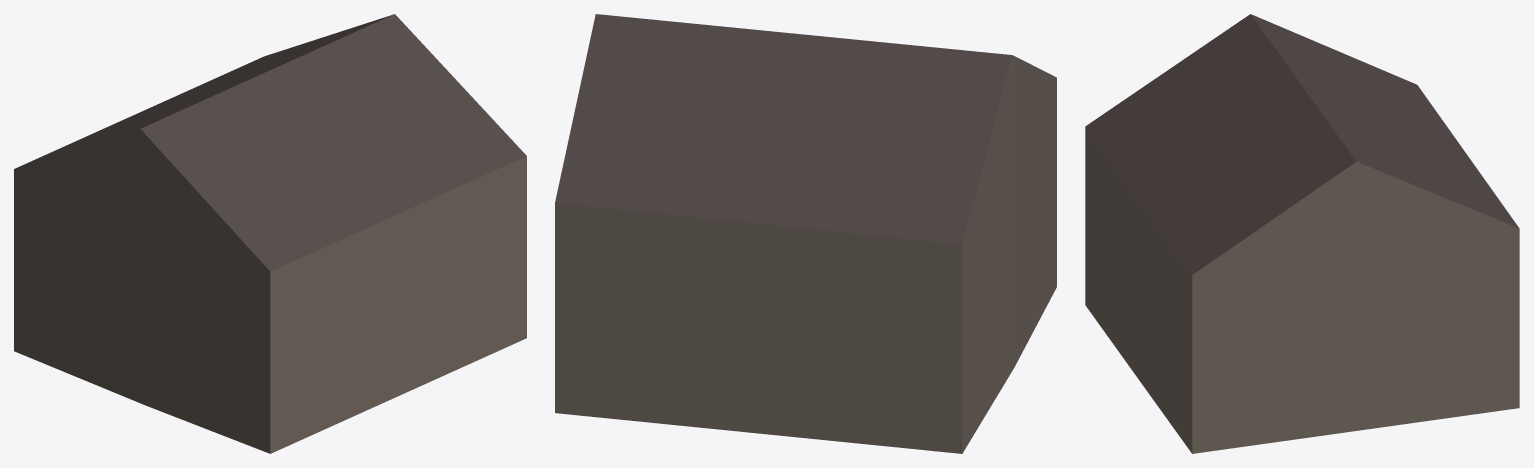
3 views of the same model, side by side, from view 1: azimuth 30°, elevation 25°; view 2: azimuth 150°, elevation 25°; view 3: azimuth 270°, elevation 25° (orthographic). The views are drawn at different scales.
Visible parts, largest first — view 1: HP-w1198645092; view 2: HP-w1198645092; view 3: HP-w1198645092.
Part boxes in pixels (x1,y1,x2,y2): HP-w1198645092: [14, 14, 526, 453]; HP-w1198645092: [555, 14, 1056, 453]; HP-w1198645092: [1085, 14, 1519, 453].
Size of the model in its own units: 20.57 by 13.56 by 19.82.
